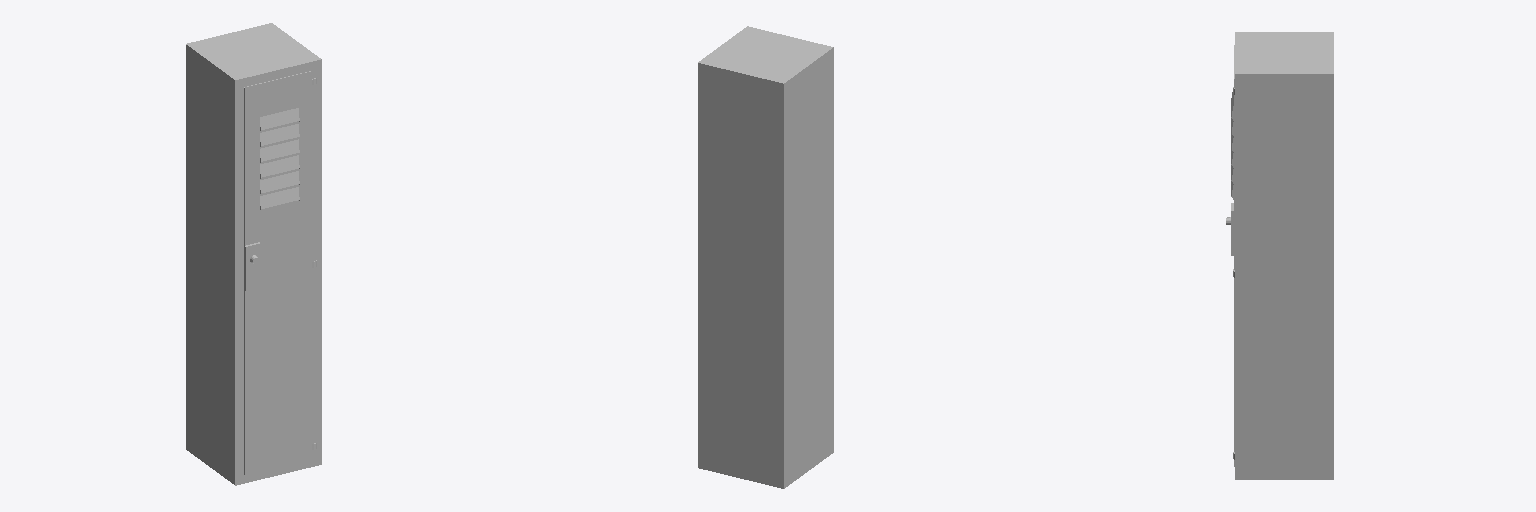
Rendered from Locker.obj.
3 renders of one model, left to right at view 1: azimuth 30°, elevation 25°; view 2: azimuth 150°, elevation 25°; view 3: azimuth 270°, elevation 25°, orthographic.
Visible parts, largest first — view 1: Lockers_Cube.009; view 2: Lockers_Cube.009; view 3: Lockers_Cube.009.
Boxes of the visible parts, <box> form: Lockers_Cube.009: <box>186,23,321,485</box>; Lockers_Cube.009: <box>698,26,833,488</box>; Lockers_Cube.009: <box>1226,32,1333,479</box>.
Bounding box in the file's own units: 0.4459 × 2 × 0.4866.